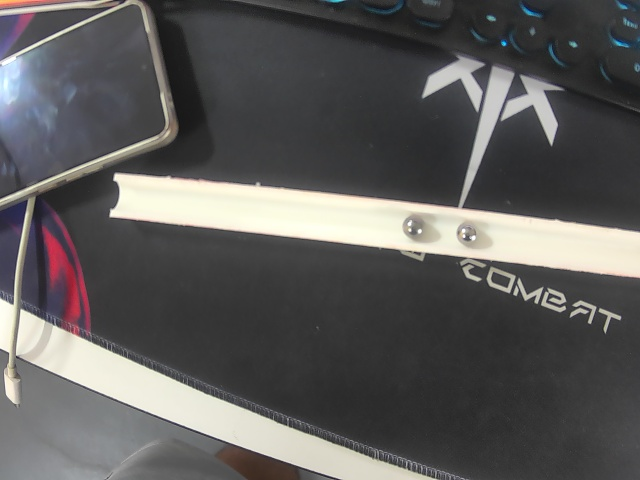steelball: (454, 220, 479, 246), (402, 214, 426, 241)
